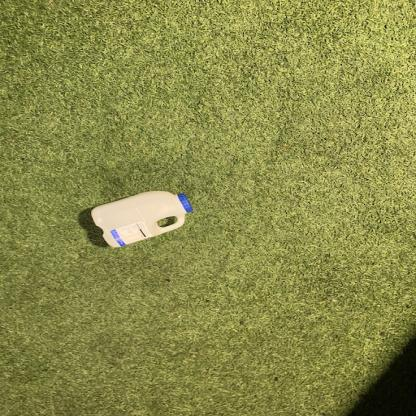trash: (91, 189, 192, 248)
